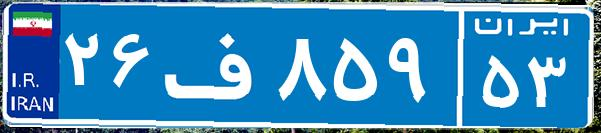2: (57, 26, 110, 107)
3: (525, 38, 570, 115)
5: (330, 28, 385, 110), (475, 38, 525, 113)
6: (110, 28, 158, 105)
8: (273, 28, 330, 110)
9: (385, 28, 445, 110)
ف: (158, 15, 273, 115)
